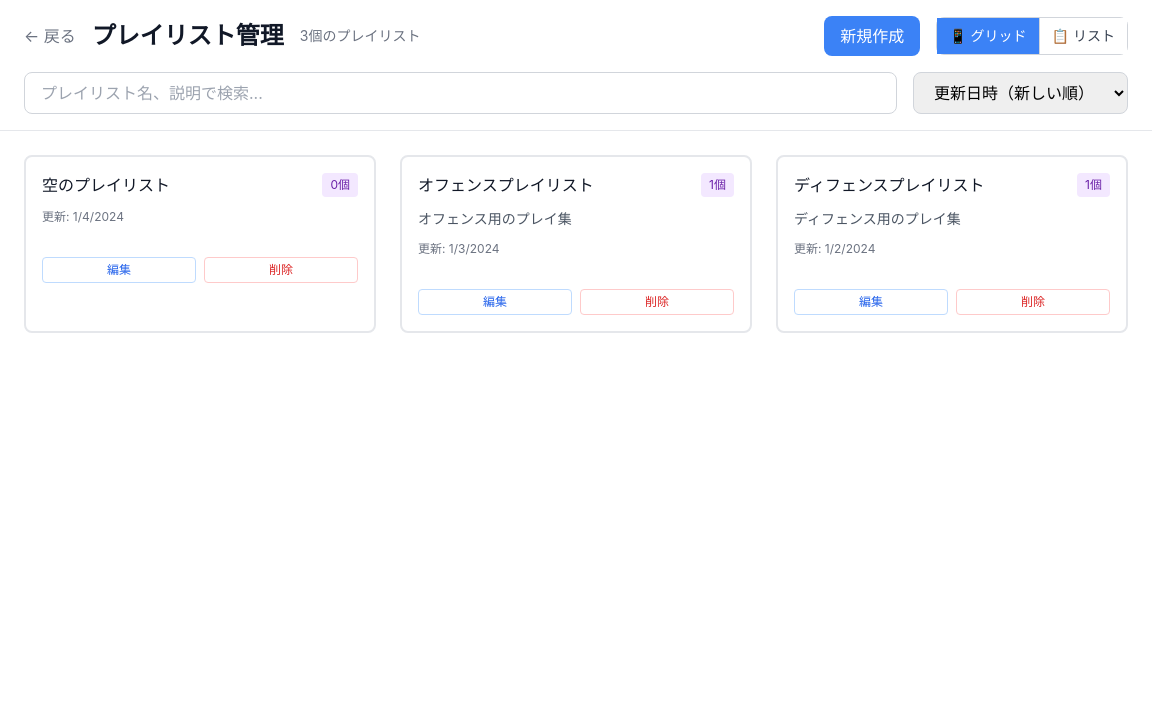
PlaylistWorkspace › ブラウズモード（初期表示） › 編集ボタンが機能すること
Click the button "編集" below "1/4/2024" at (119,270), box [42,257,196,283]
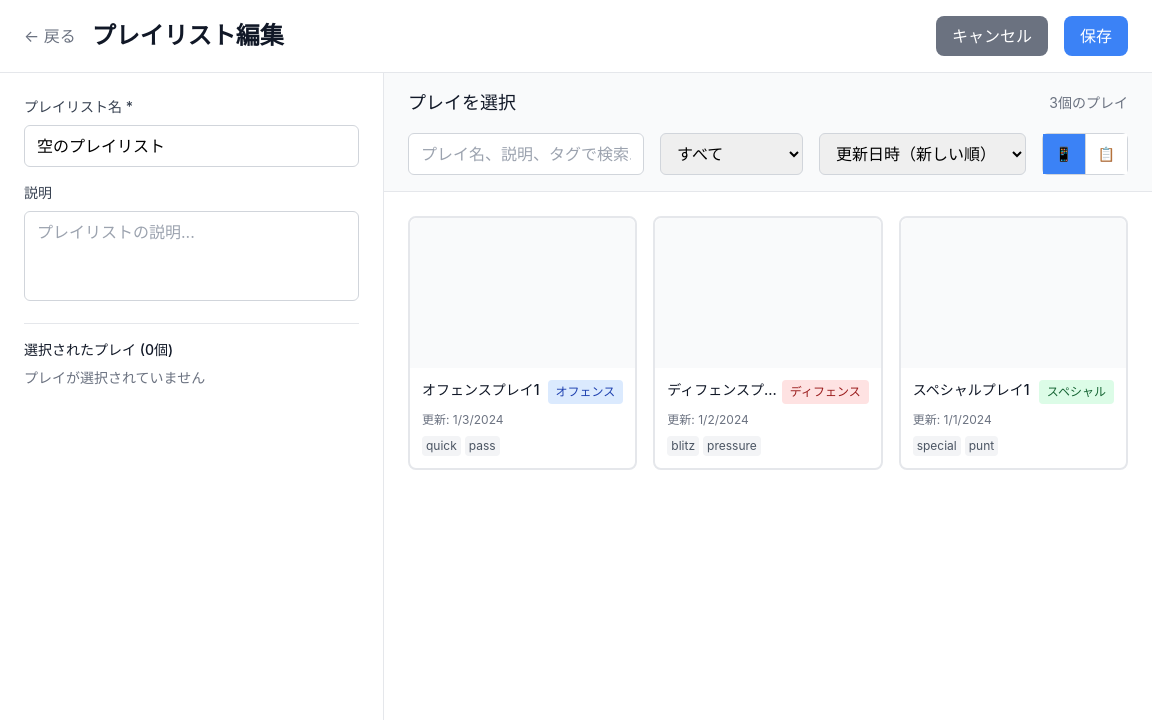
Expected: the heading "プレイリスト編集" is shown, [92,20,284,52]
